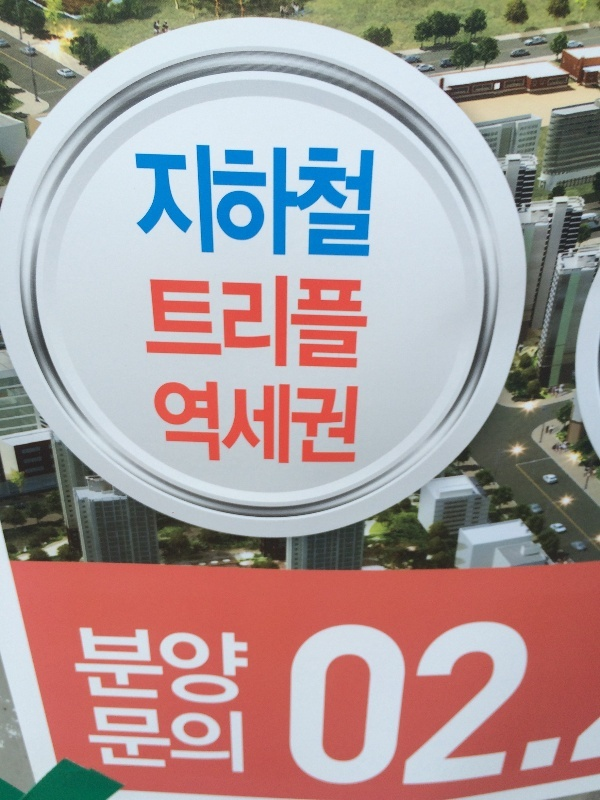text: (305, 620, 320, 790), (321, 620, 336, 790), (337, 620, 352, 790), (353, 620, 368, 790), (369, 620, 384, 790), (385, 620, 400, 790), (401, 620, 416, 790), (417, 620, 432, 790), (433, 620, 448, 790), (449, 620, 464, 790), (465, 620, 480, 790), (481, 620, 496, 790), (497, 620, 512, 790), (513, 620, 528, 790), (529, 620, 544, 790), (545, 620, 560, 790), (291, 620, 304, 790), (561, 620, 572, 790), (145, 144, 160, 263), (161, 144, 176, 263), (177, 144, 192, 263), (193, 144, 208, 263), (209, 144, 224, 263), (225, 144, 240, 263), (241, 144, 256, 263), (257, 144, 272, 263), (273, 144, 288, 263), (289, 144, 304, 263), (305, 144, 320, 263), (321, 144, 336, 263), (337, 144, 352, 263), (353, 144, 368, 263), (145, 278, 160, 372), (161, 278, 176, 372), (177, 278, 192, 372), (193, 278, 208, 372), (209, 278, 224, 372), (225, 278, 240, 372), (241, 278, 256, 372), (257, 278, 272, 372), (273, 278, 288, 372), (289, 278, 304, 372), (305, 278, 320, 372), (321, 278, 336, 372), (337, 278, 352, 372), (353, 278, 368, 372), (161, 382, 176, 469), (177, 382, 192, 469), (193, 382, 208, 469), (209, 382, 224, 469), (225, 382, 240, 469), (241, 382, 256, 469), (257, 382, 272, 469), (273, 382, 288, 469), (289, 382, 304, 469), (305, 382, 320, 469), (321, 382, 336, 469), (337, 382, 352, 469), (134, 144, 144, 263), (81, 628, 96, 707), (97, 628, 112, 707), (113, 628, 128, 707), (129, 628, 144, 707), (145, 628, 160, 707), (161, 628, 176, 707), (177, 628, 192, 707), (193, 628, 208, 707), (209, 628, 224, 707), (225, 628, 240, 707), (97, 708, 112, 775), (113, 708, 128, 775), (129, 708, 144, 775), (145, 708, 160, 775), (161, 708, 176, 775), (177, 708, 192, 775), (193, 708, 208, 775), (209, 708, 224, 775), (225, 708, 240, 775), (150, 382, 160, 469), (70, 628, 80, 707), (85, 708, 96, 775), (369, 144, 375, 263), (241, 628, 249, 707), (353, 382, 360, 469), (141, 278, 144, 372), (241, 708, 245, 775), (369, 278, 370, 372)
